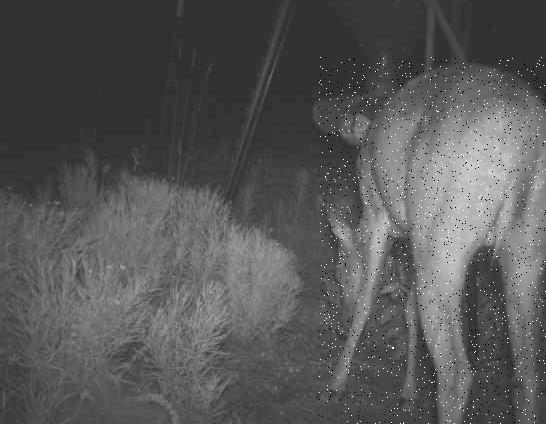Deer: (319, 57, 546, 424)
